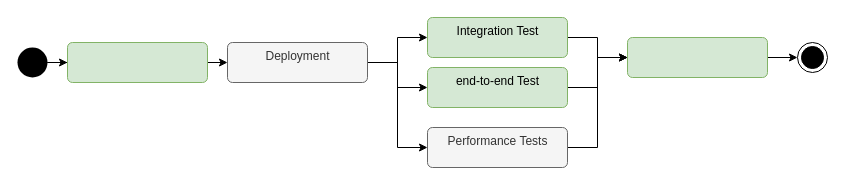
The diagram is 845 pixels wide and 185 high, and some of its shapes have lost their labels. Here are the shapes that lost their labels. From the top down, the box of each, then its label:
(66, 42, 208, 82): Build + Unit Tests
(626, 36, 768, 78): Gating
